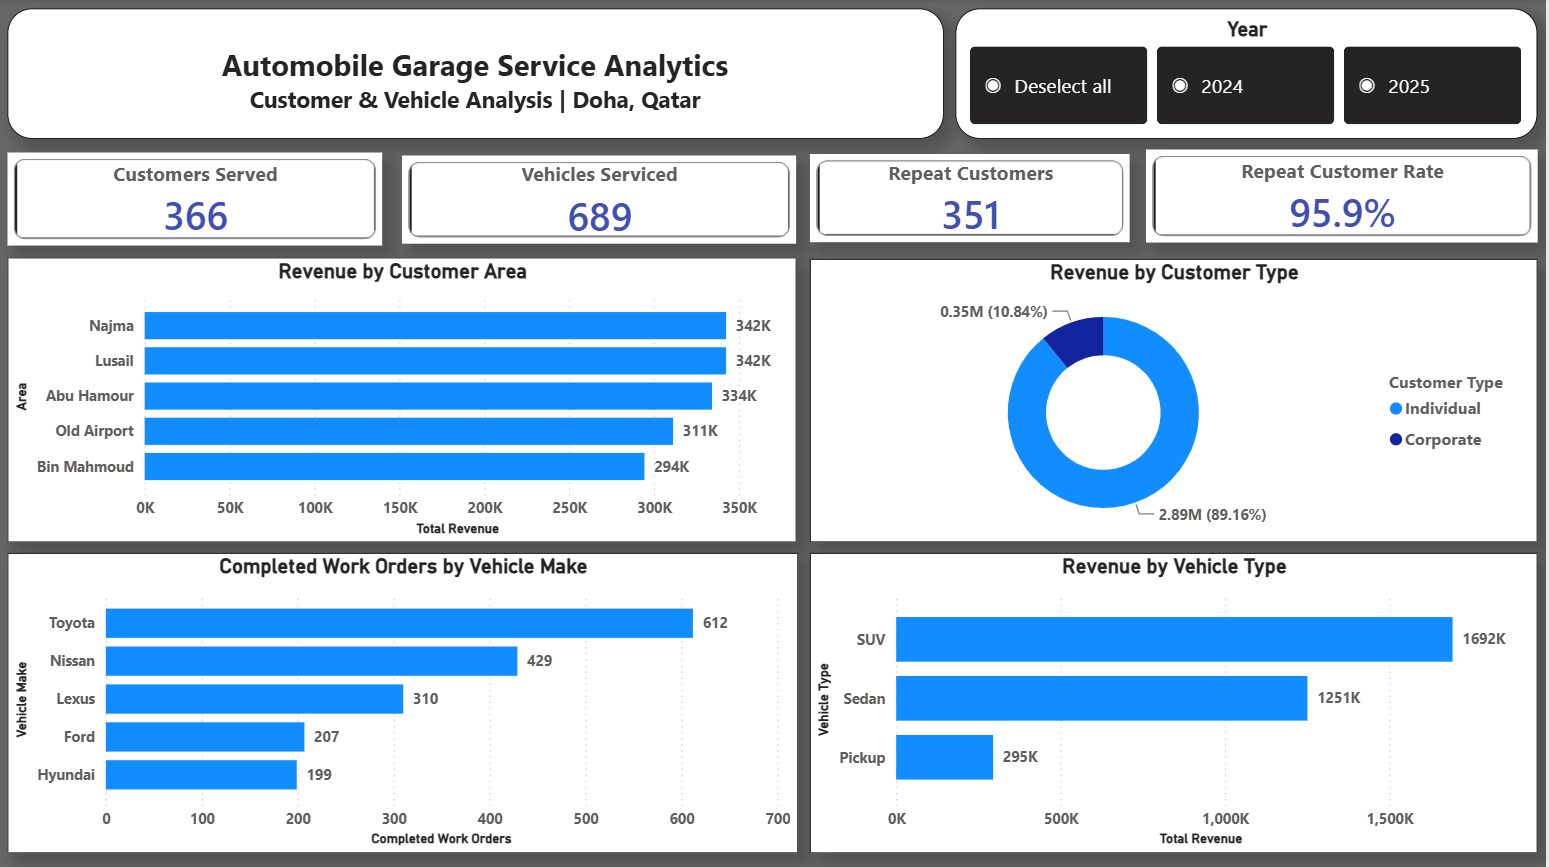

What the dashboard file says about the page in this screenshot:
{"tool":"powerbi","page":{"name":"Customer & Vehicle Analysis","canvas":[1280,720],"ordinal":3},"visuals":[{"type":"textbox","box":[11.1,8.7,771.1,107.5],"z":0},{"type":"advancedSlicerVisual","fields":{"Values":["DateTable.Year"]},"box":[792.1,8.7,479.5,107.5],"z":1000},{"type":"cardVisual","title":"Total Revenue (QAR)","fields":{"Data":["WorkOrdersTable.Customers Served"]},"box":[11.1,127.3,308.9,76.6],"z":2000},{"type":"cardVisual","title":"Total Revenue (QAR)","fields":{"Data":["WorkOrdersTable.Vehicle Serviced"]},"box":[336.1,129.8,325,72.9],"z":3000},{"type":"cardVisual","title":"Total Revenue (QAR)","fields":{"Data":["WorkOrdersTable.Repeat Customers"]},"box":[672.2,128.5,263.2,72.9],"z":4000},{"type":"cardVisual","title":"Total Revenue (QAR)","fields":{"Data":["WorkOrdersTable.Repeat Customer Rate"]},"box":[949,124.8,322.5,76.6],"z":5000},{"type":"barChart","title":"Revenue by Customer Area","fields":{"Category":["CustomersTable.Area"],"Y":["WorkOrdersTable.Total Revenue"]},"box":[11.1,213.8,650,234.8],"z":6000},{"type":"donutChart","title":"Revenue by Customer Type","fields":{"Category":["CustomersTable.CustomerType"],"Y":["WorkOrdersTable.Total Revenue"]},"box":[672.2,215,599.3,233.6],"z":7000},{"type":"clusteredBarChart","title":"Completed Work Orders by Vehicle Make","fields":{"Category":["VehiclesTable.VehicleMake"],"Y":["WorkOrdersTable.Completed Work Orders"]},"box":[11.1,457.2,651.2,247.1],"z":8000},{"type":"clusteredBarChart","title":"Revenue by Vehicle Type","fields":{"Category":["VehiclesTable.VehicleType"],"Y":["WorkOrdersTable.Total Revenue"]},"box":[672.2,457.2,599.3,247.1],"z":9000}]}

Visuals, with their boxes in screenshot pixels (x1, y1, x2, y2), scaled from the page's 1280x720 canvas onto the 1549x867 screenshot:
textbox: select_region(13, 10, 947, 140)
advancedSlicerVisual - DateTable.Year: select_region(959, 10, 1539, 140)
"Total Revenue (QAR)" cardVisual: select_region(13, 153, 387, 246)
"Total Revenue (QAR)" cardVisual: select_region(407, 156, 800, 244)
"Total Revenue (QAR)" cardVisual: select_region(813, 155, 1132, 243)
"Total Revenue (QAR)" cardVisual: select_region(1148, 150, 1539, 243)
"Revenue by Customer Area" barChart: select_region(13, 257, 800, 540)
"Revenue by Customer Type" donutChart: select_region(813, 259, 1539, 540)
"Completed Work Orders by Vehicle Make" clusteredBarChart: select_region(13, 551, 801, 848)
"Revenue by Vehicle Type" clusteredBarChart: select_region(813, 551, 1539, 848)
